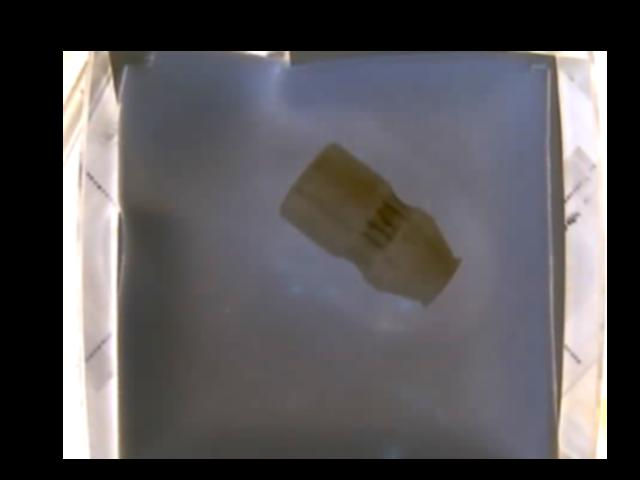Bottle: (278, 141, 463, 307)
